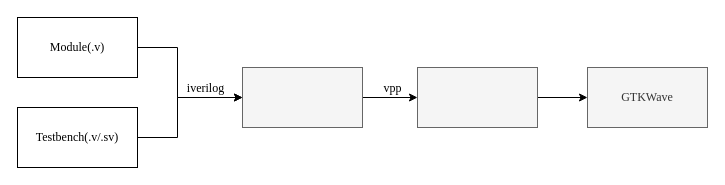
This 725x185 diagram has some shape labels left out. The centre of each missing label's shape, as x and y in pixels:
Simulation (Executable): the point at 302,97
WaveFiles: the point at 477,97
